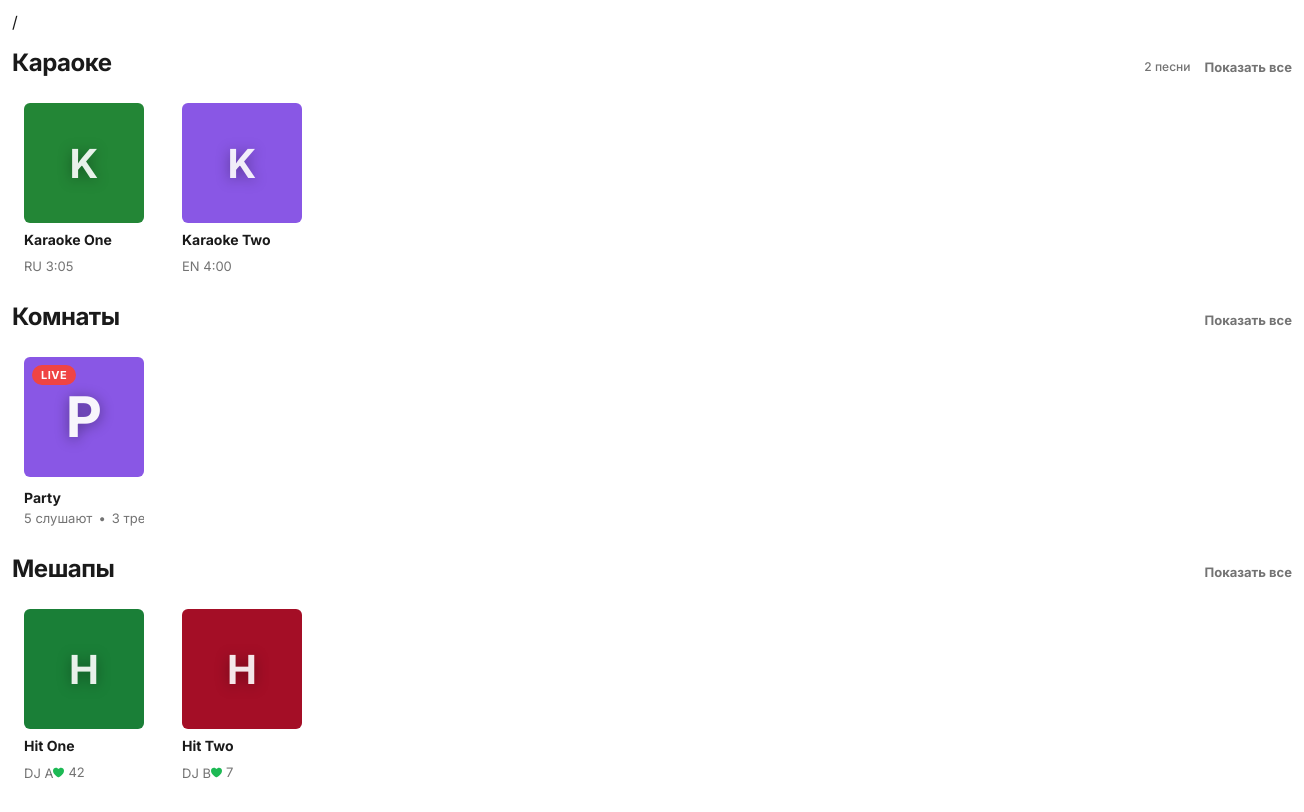
Home › opens karaoke preview panel without auto-play
Click the button with test id "karaoke-song-card" showing "K Karaoke One RU 3:05": {"x": 84, "y": 188} [12,91,156,286]
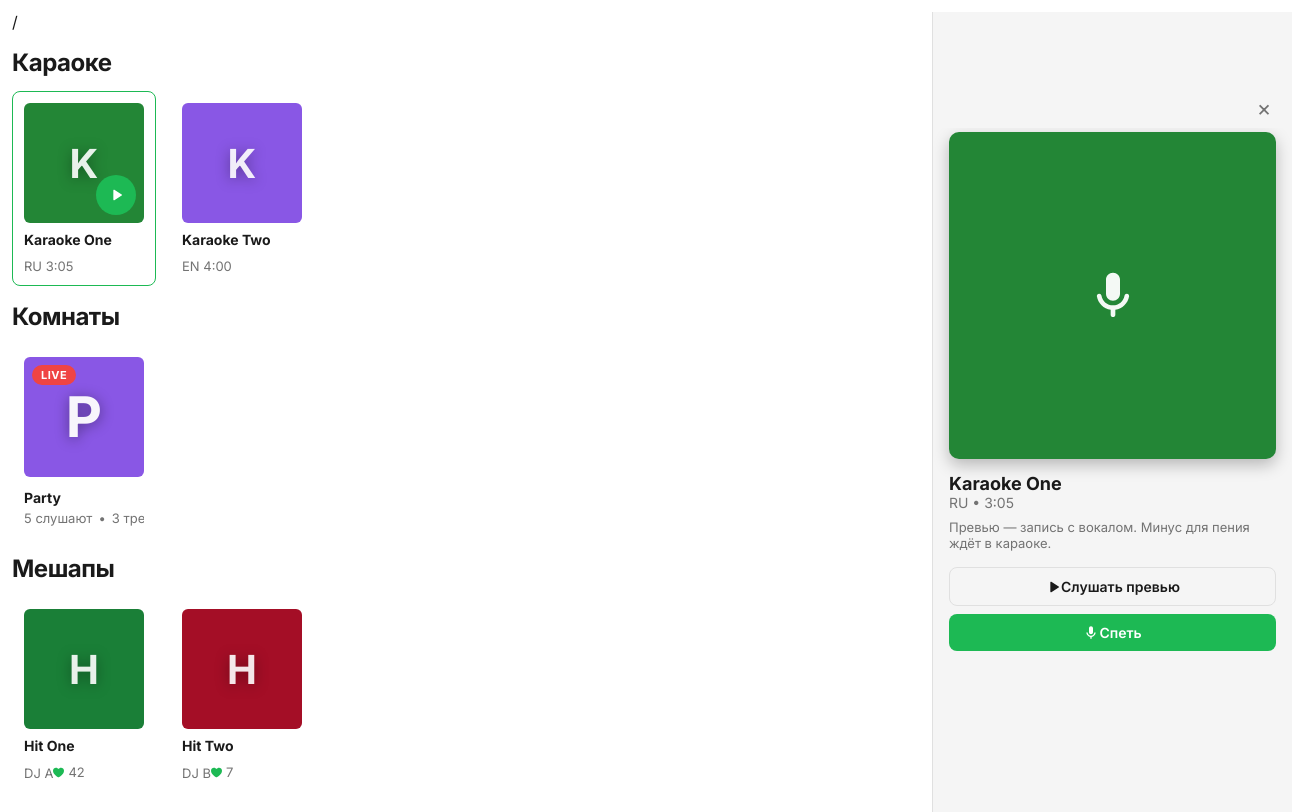
Result: the element with test id "karaoke-preview-panel" shows "Karaoke One" at [949,473,1062,494]
Result: the button "Слушать превью" is shown at [949,567,1276,606]
Result: the button "Спеть" is shown at [949,614,1276,651]
